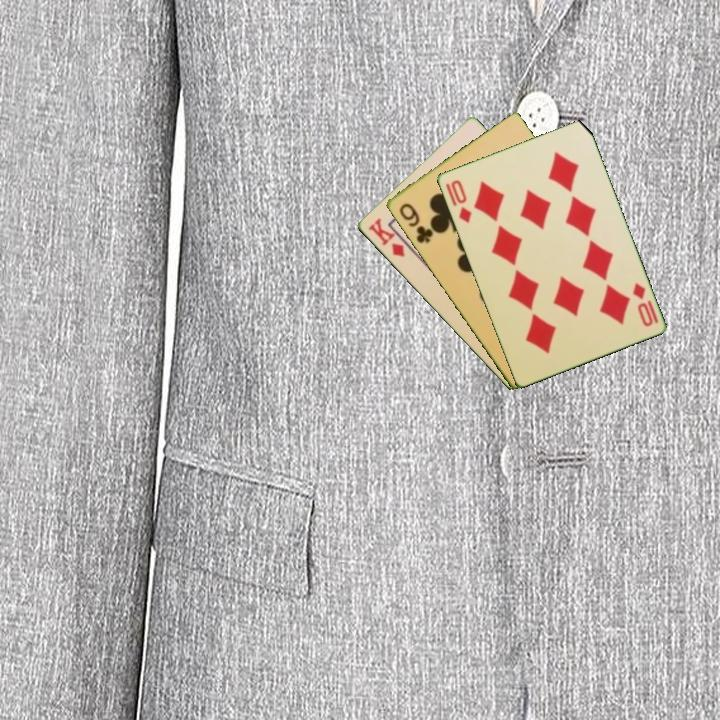10d: (628, 279, 661, 330), (442, 176, 474, 226)
9c: (395, 199, 436, 246)
Kd: (364, 214, 407, 260)
